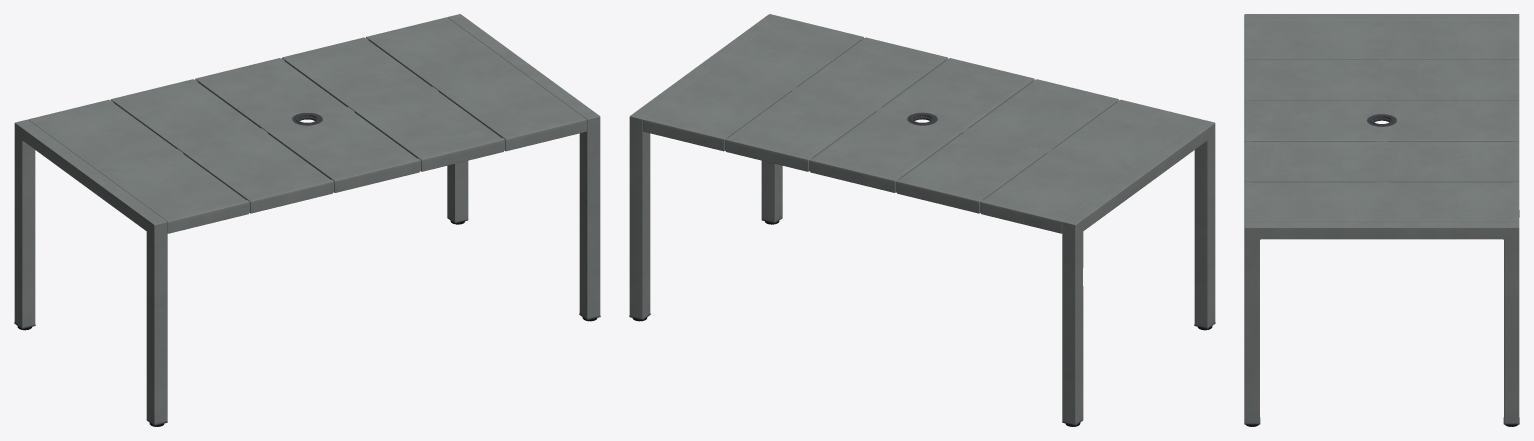
Rendered from abo-B082VSXML3.glb.
The picture shows the model from 3 angles, left to right: view 1: azimuth 30°, elevation 25°; view 2: azimuth 150°, elevation 25°; view 3: azimuth 270°, elevation 25°; orthographic projection.
Size of the model in its own units: 1.68 by 0.735 by 0.914.
Materials: 1 (1 with a texture image).
